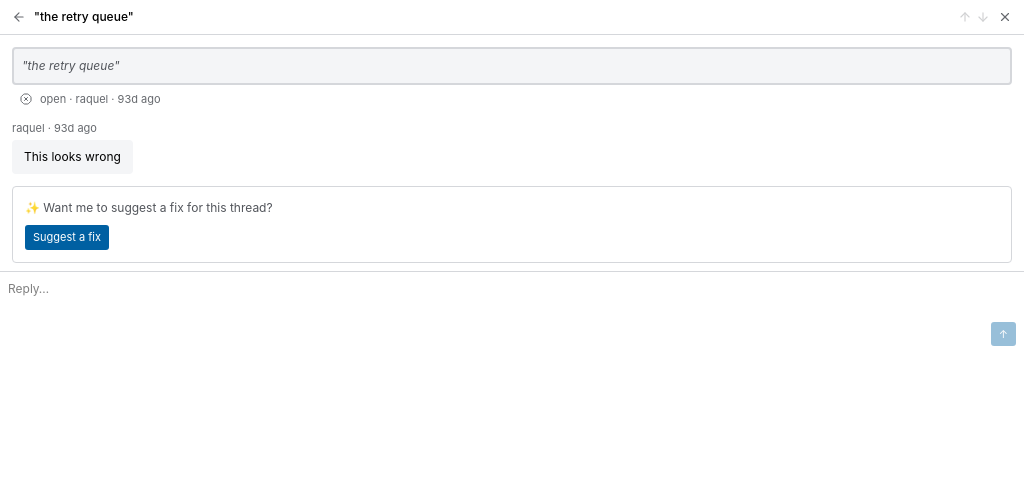
Test case: ThreadView › shows retry option when reply commit fails
In the text box with placeholder "Reply…": (512,298) x1=8 y1=280 x2=1016 y2=316, type "my reply"
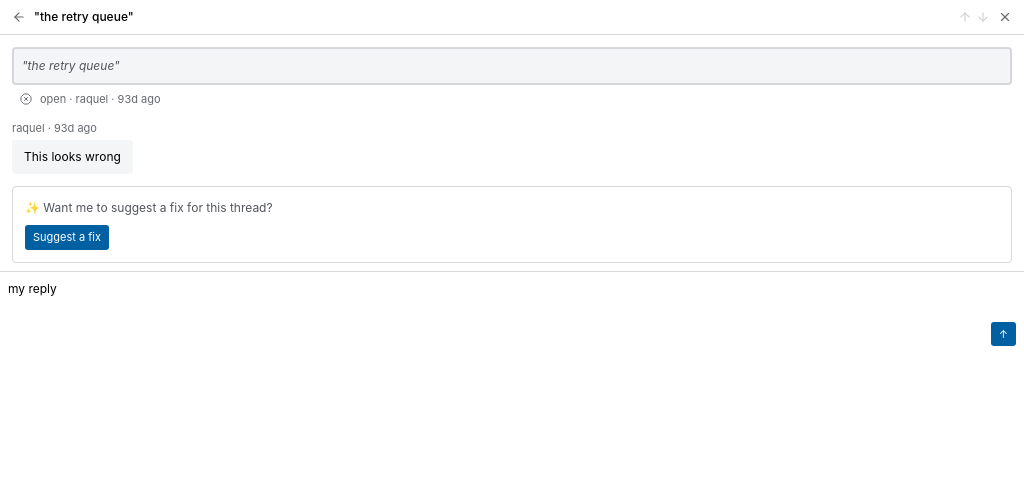
Click the button "↑": (1003,334) x1=991 y1=322 x2=1016 y2=346
Wait 31000 ms
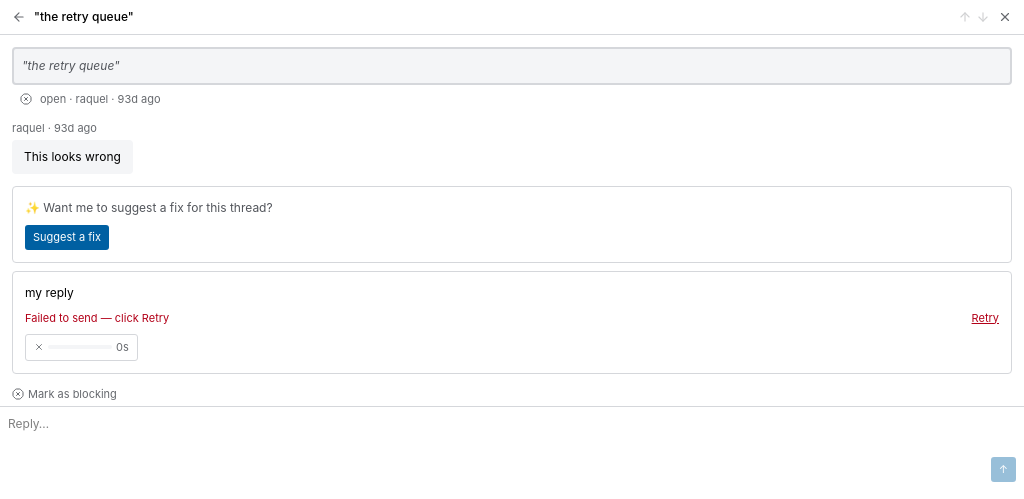
Result: the element with test id "queued-reply-card" is shown at x1=12 y1=270 x2=1012 y2=374
Result: the text "Failed to send — click Retry" is shown at x1=25 y1=310 x2=169 y2=326
